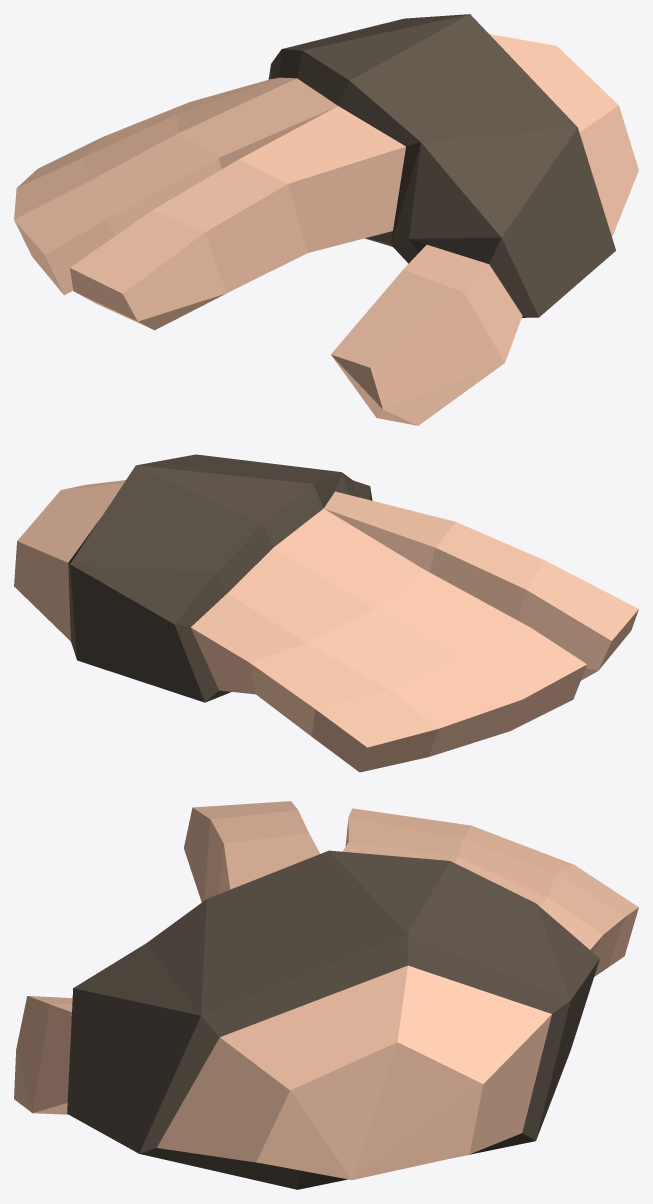
File: Chr_HandRight_Female_15_Static.fbx
The picture shows the model from 3 angles, top to bottom: view 1: azimuth 30°, elevation 25°; view 2: azimuth 150°, elevation 25°; view 3: azimuth 270°, elevation 25°; orthographic projection. The views are drawn at different scales.
Parts seen in each view (by area): view 1: Chr_HandRight_Female_15_Static; view 2: Chr_HandRight_Female_15_Static; view 3: Chr_HandRight_Female_15_Static.
Boxes of the visible parts, <box> form: Chr_HandRight_Female_15_Static: <box>14,14,638,425</box>; Chr_HandRight_Female_15_Static: <box>14,454,638,772</box>; Chr_HandRight_Female_15_Static: <box>14,801,638,1189</box>.
Bounding box in the file's own units: 0.2335 × 0.1036 × 0.188.
